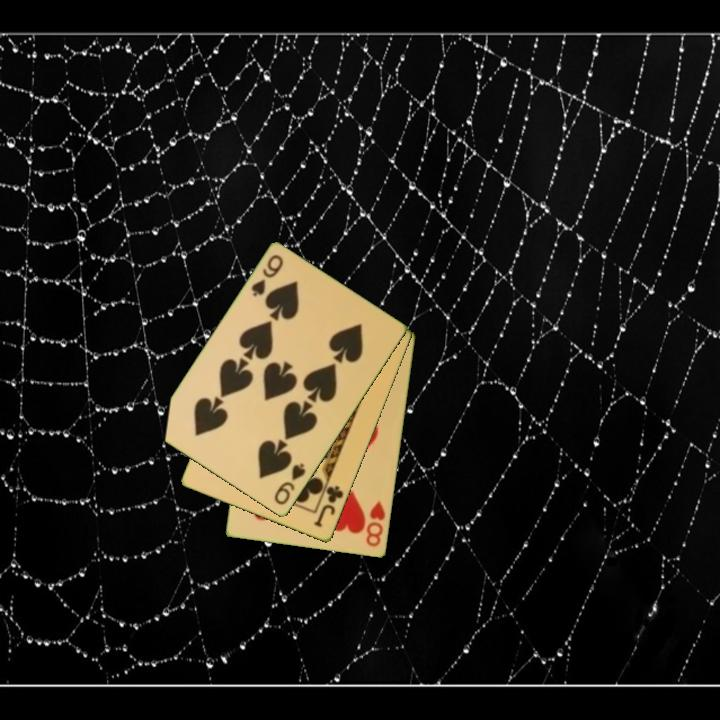8h: (363, 497, 388, 550)
9s: (270, 460, 309, 508), (248, 251, 286, 300)
Jc: (310, 482, 347, 531)
